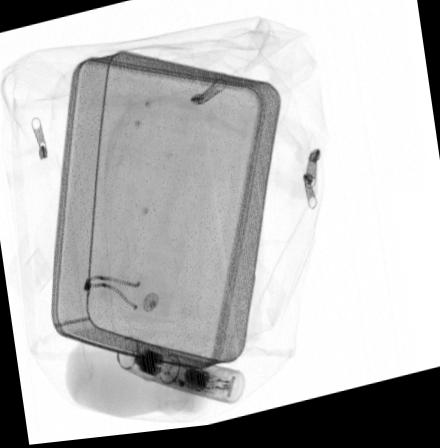Baton: (114, 339, 246, 412)
